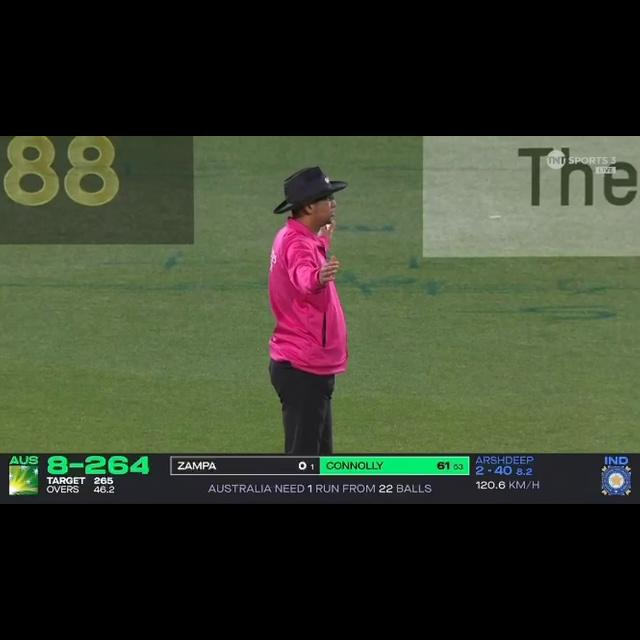umpire: (254, 163, 368, 452)
